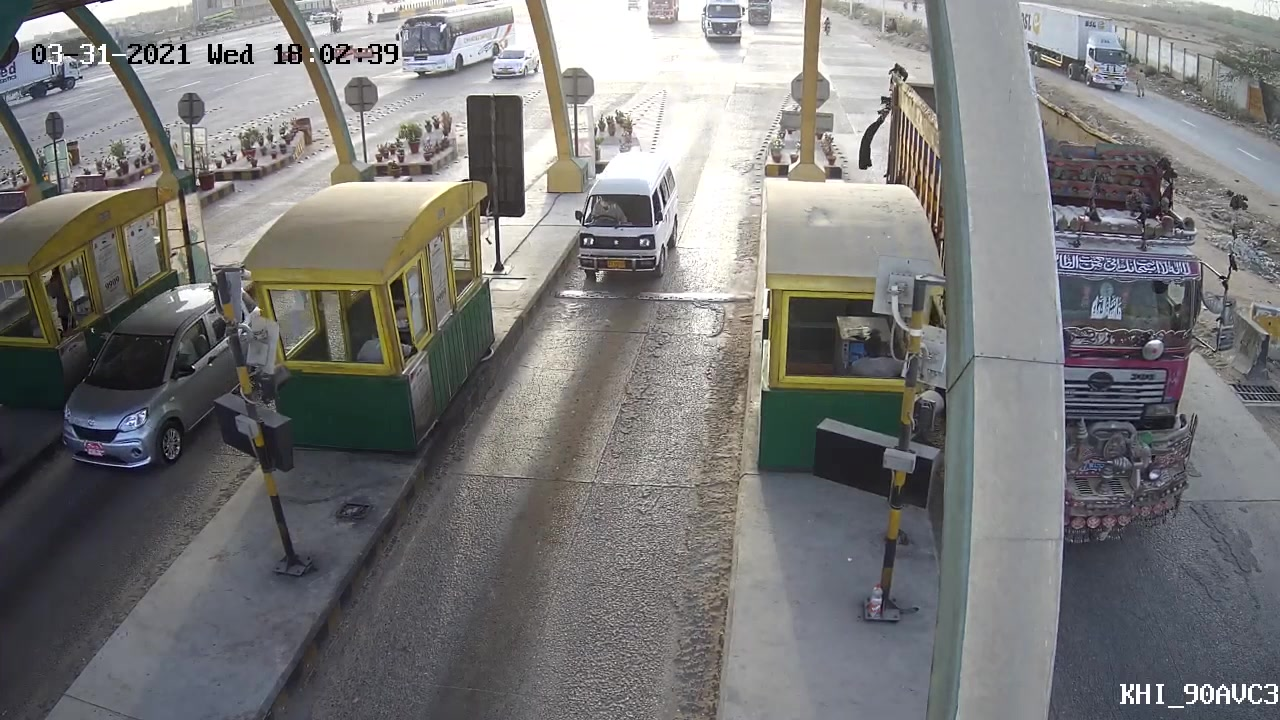F1: (570, 151, 689, 282)
